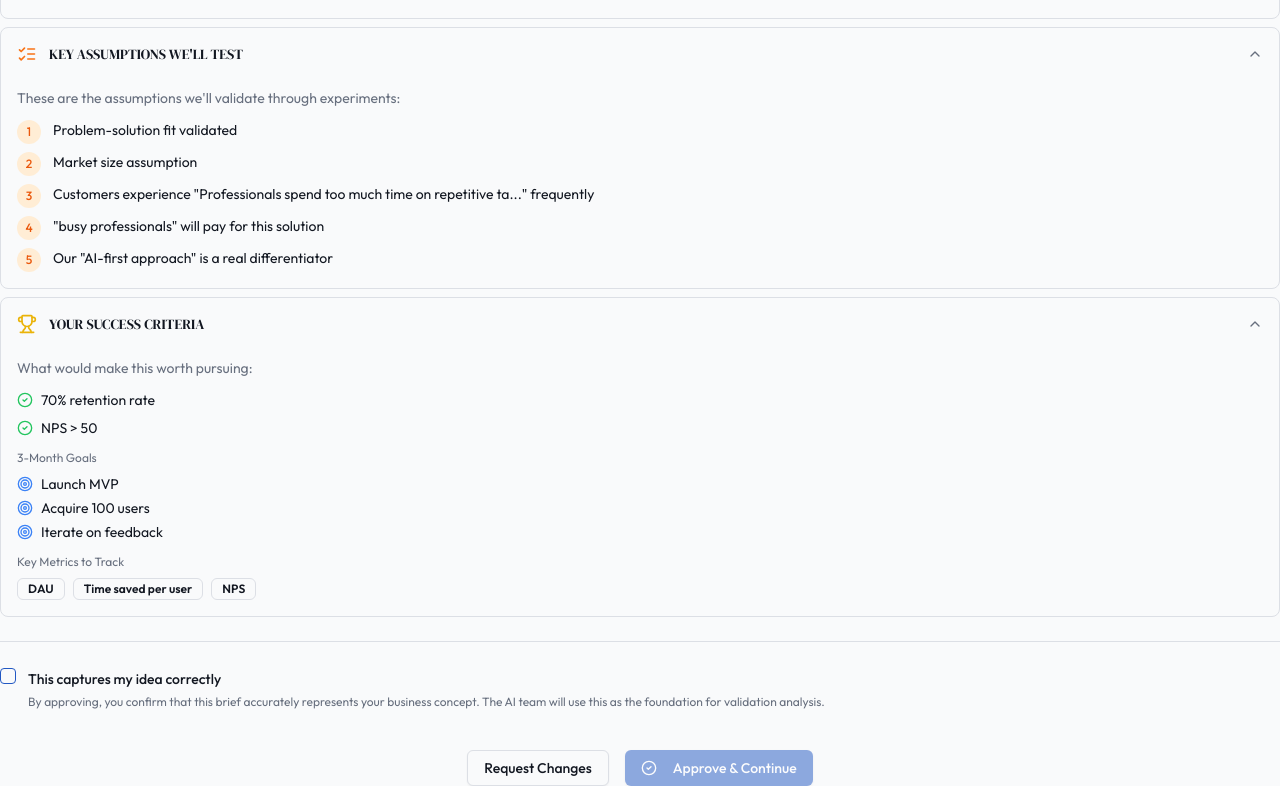
Test case: FoundersBriefReview › Request Changes Flow › should enable submit when feedback is provided
(page scrolled)
Click the button "Request Changes": (538,768) 467,750 -> 609,785
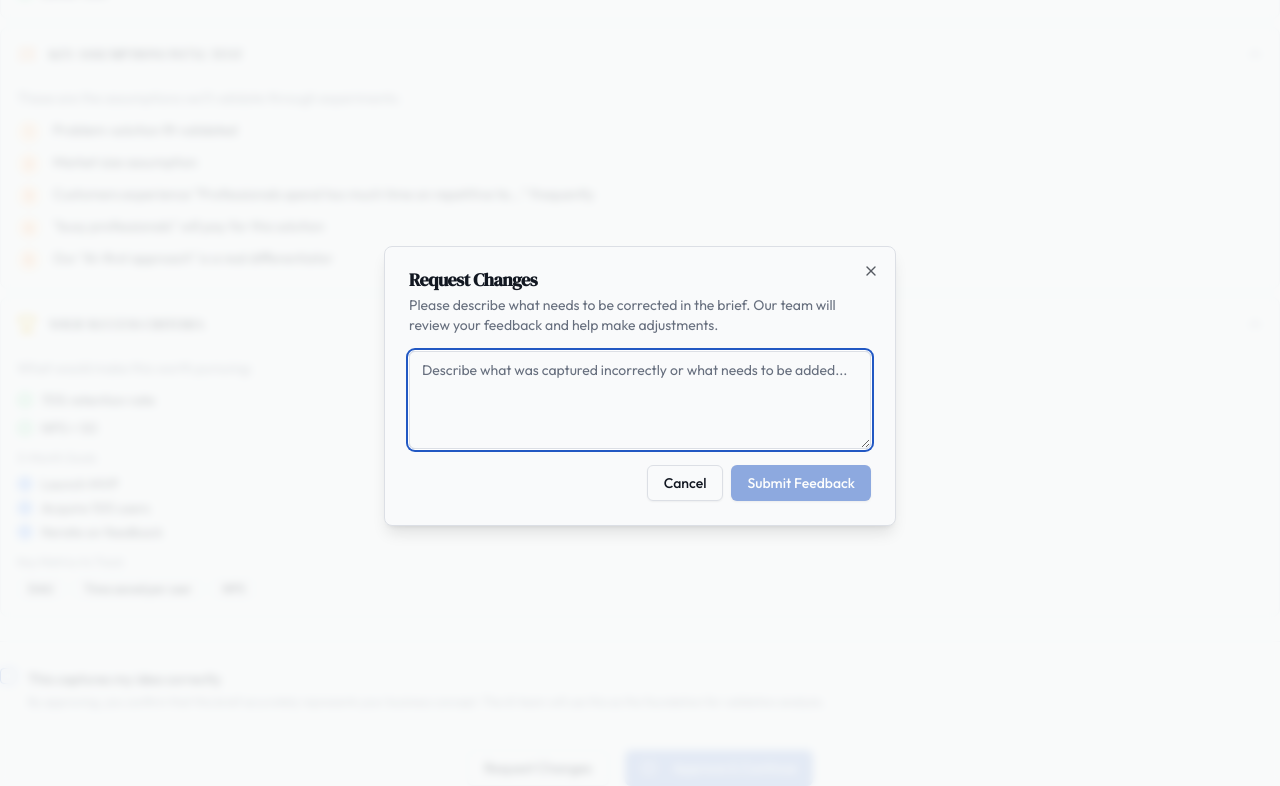
Replace the text in the text box with placeholder "Describe what was captured incorrectly" with "Please fix the problem description": (640,400) 409,351 -> 871,449
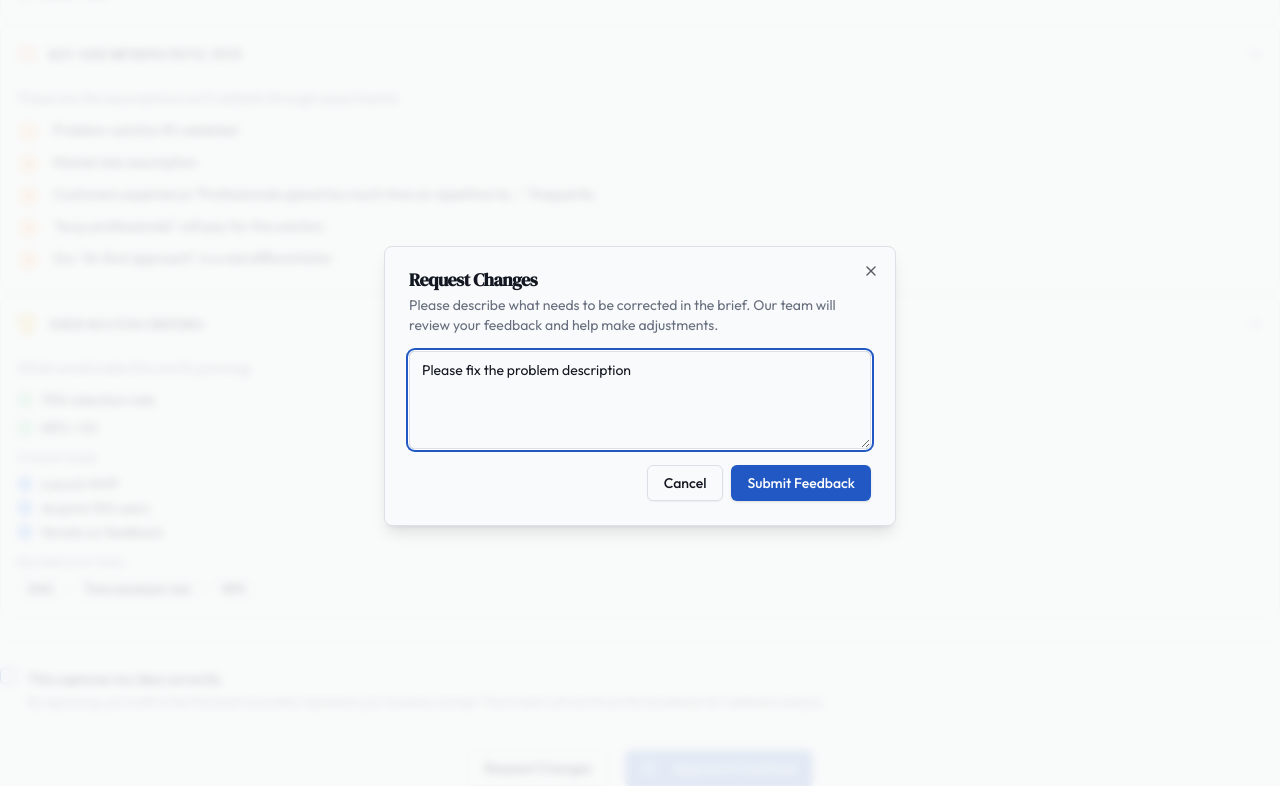
Now the button "Submit Feedback" is enabled, box 732,465 -> 871,501
